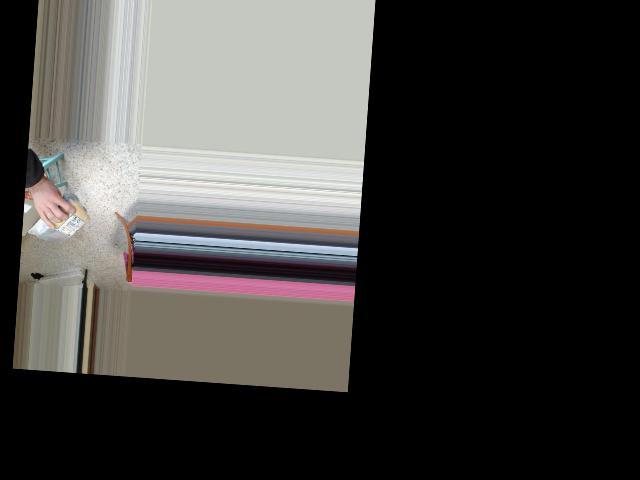cheese: (28, 194, 89, 242)
